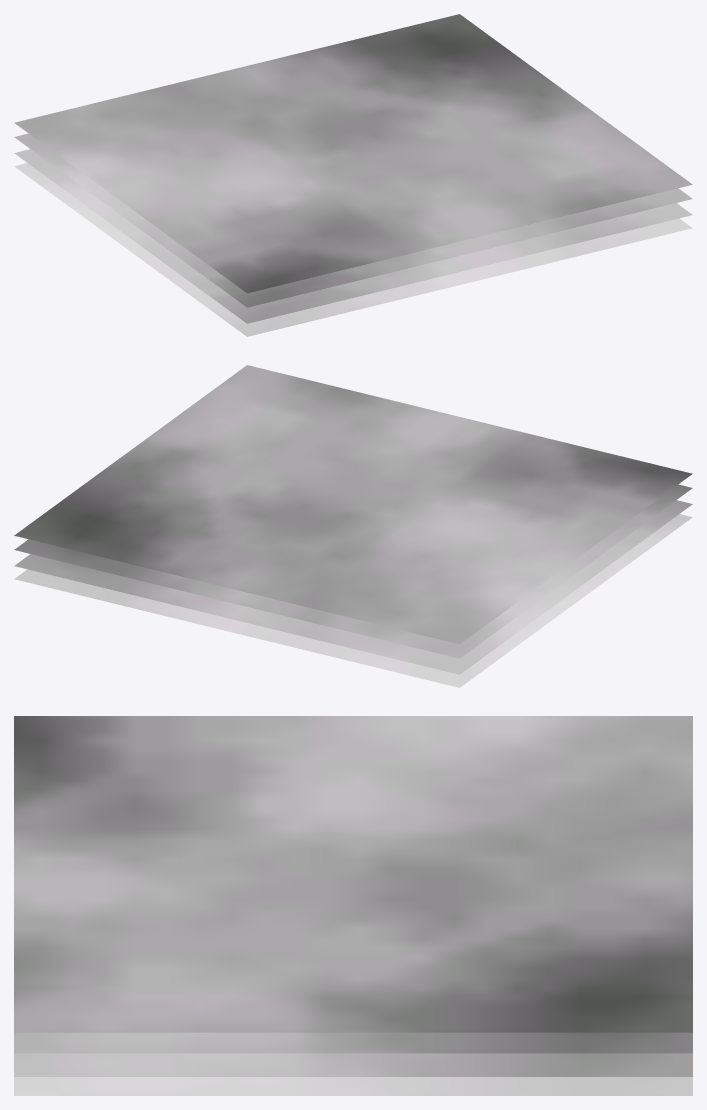
Rendered from SWORDLIGHT20_MAINCAVERNCLOUDS09.fbx.
The picture shows the model from 3 angles, top to bottom: view 1: azimuth 30°, elevation 25°; view 2: azimuth 150°, elevation 25°; view 3: azimuth 270°, elevation 25°; orthographic projection. The views are drawn at different scales.
Visible parts, largest first — view 1: SWORDLIGHT20_MAINCAVERNCLOUDS09; view 2: SWORDLIGHT20_MAINCAVERNCLOUDS09; view 3: SWORDLIGHT20_MAINCAVERNCLOUDS09.
Part boxes in pixels (box(x1,y1,x2,y2)): SWORDLIGHT20_MAINCAVERNCLOUDS09: box(14, 14, 692, 336); SWORDLIGHT20_MAINCAVERNCLOUDS09: box(14, 365, 692, 687); SWORDLIGHT20_MAINCAVERNCLOUDS09: box(14, 716, 692, 1095).
Bounding box in the file's own units: 161490 × 15056 × 146334.
Materials: 4 (4 with a texture image).
